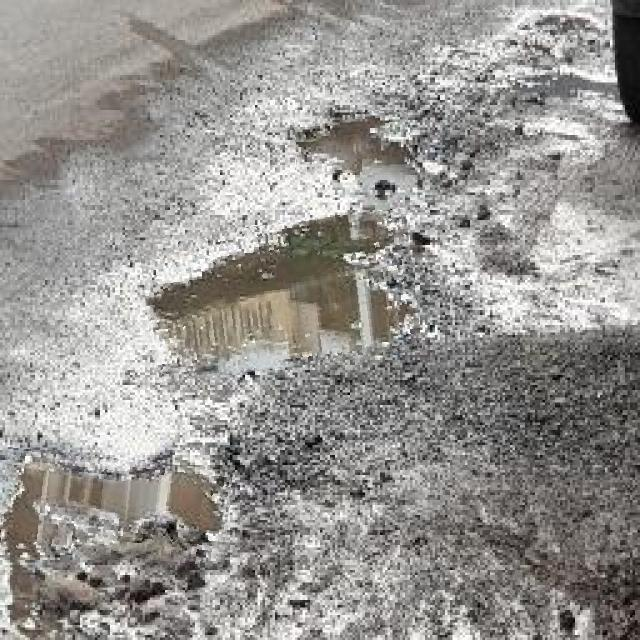puddle: (143, 217, 420, 377), (1, 453, 232, 565), (295, 113, 410, 175)
